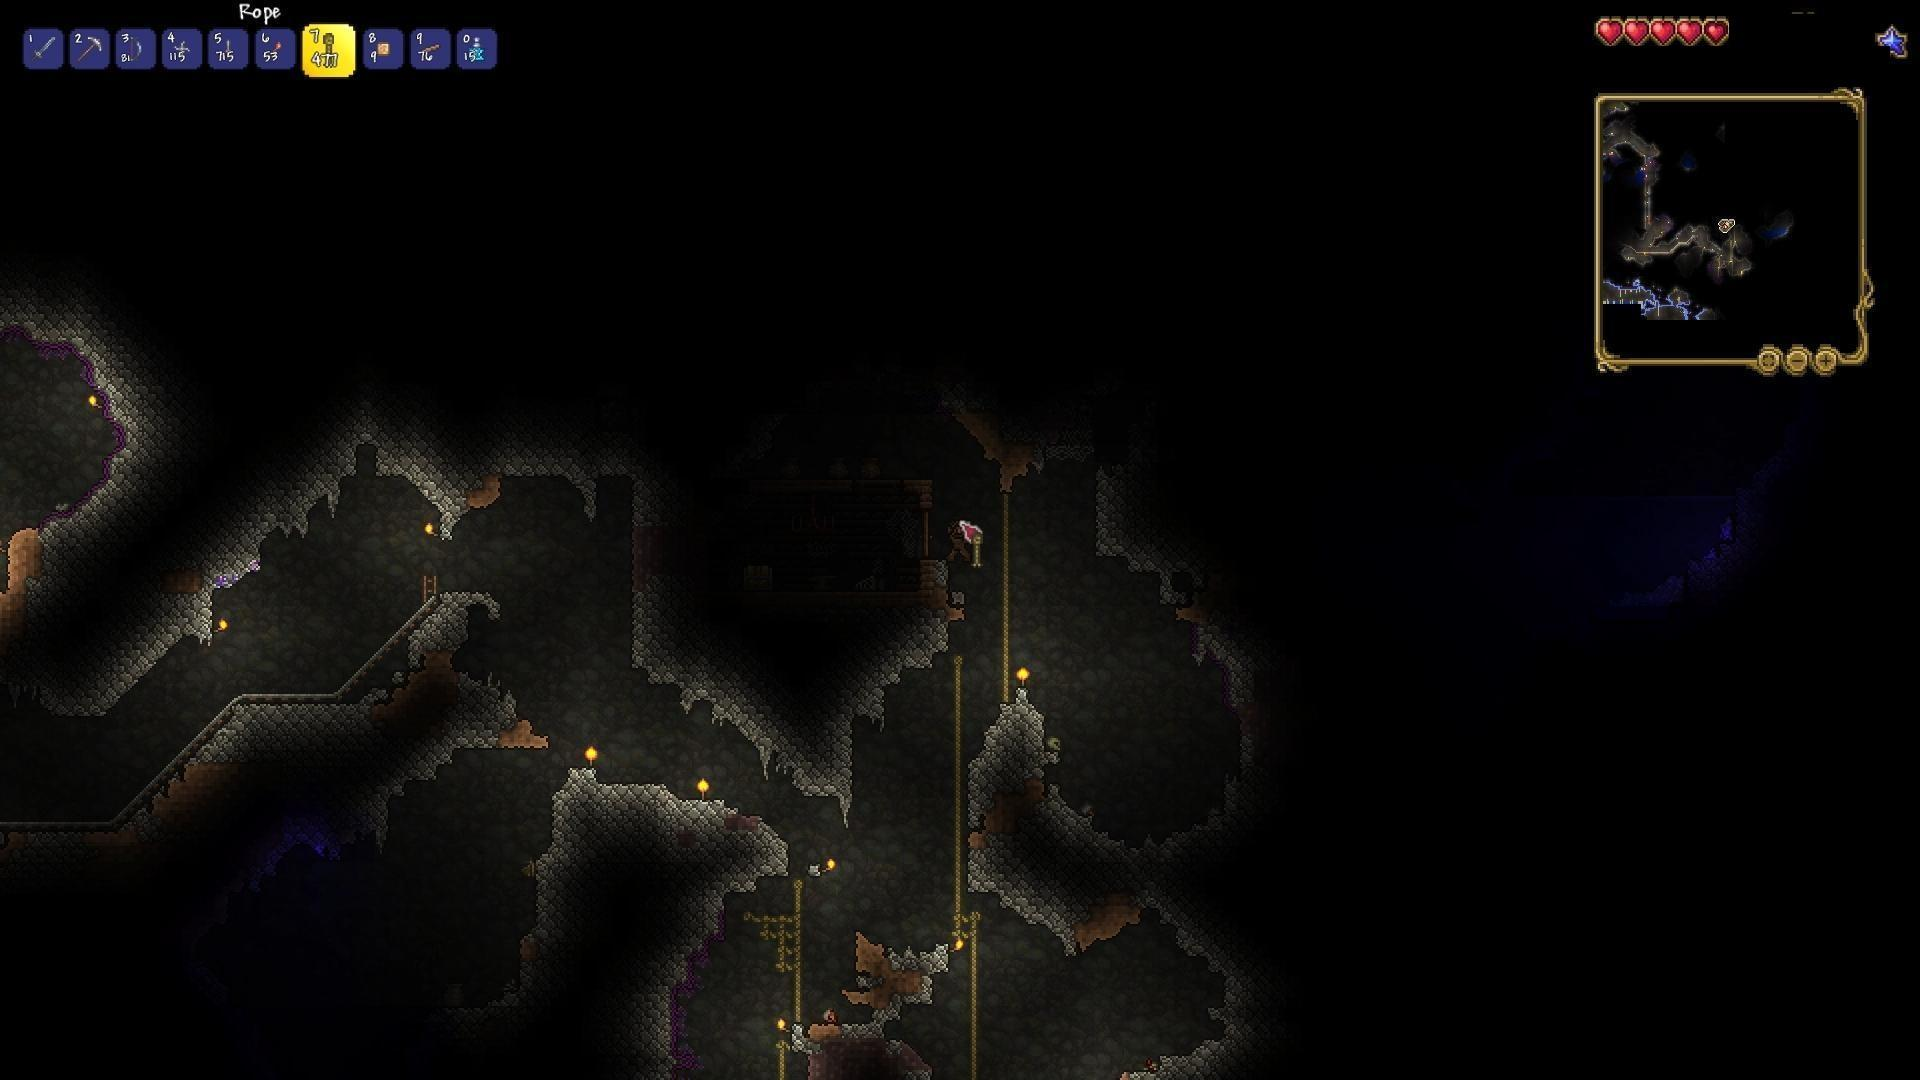heart: (1702, 17, 1733, 51), (1593, 16, 1626, 46), (1676, 15, 1704, 50), (1650, 16, 1676, 49), (1625, 15, 1651, 44)
stone: (535, 771, 682, 1051), (967, 833, 1092, 967), (620, 580, 725, 728), (65, 601, 182, 732), (1137, 804, 1251, 928), (673, 800, 785, 922), (1139, 965, 1261, 1077), (1091, 463, 1180, 608), (342, 417, 465, 518), (92, 345, 170, 502), (510, 429, 650, 506), (1199, 650, 1263, 777), (967, 688, 1043, 791), (214, 469, 291, 570), (866, 613, 940, 719), (225, 695, 343, 760), (738, 756, 858, 815), (400, 592, 491, 654), (1042, 778, 1104, 832)
